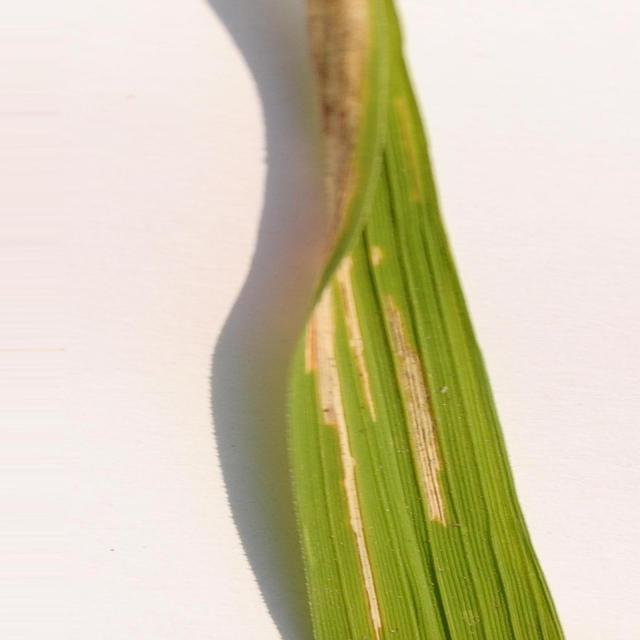Bacterial_Leaf_Blight: (303, 283, 384, 624), (381, 293, 446, 520), (335, 255, 379, 418)
